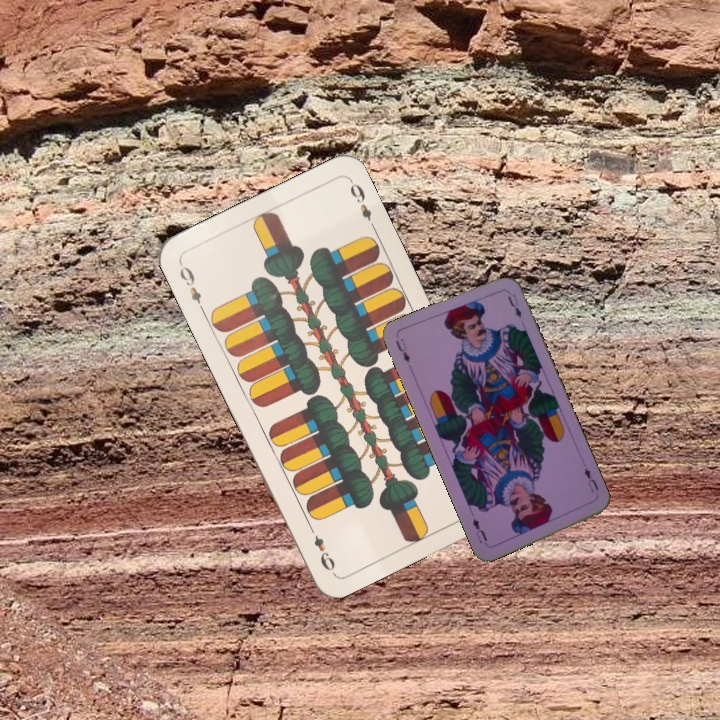E9: (175, 258, 207, 314)
EU: (580, 464, 601, 495), (391, 334, 412, 365)
